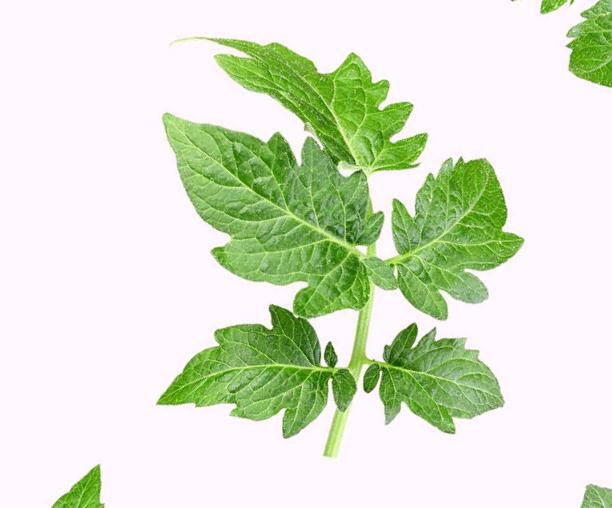Tomato leaf: (99, 44, 431, 372), (174, 0, 484, 247), (132, 251, 389, 508), (329, 108, 570, 352), (337, 297, 529, 488)
